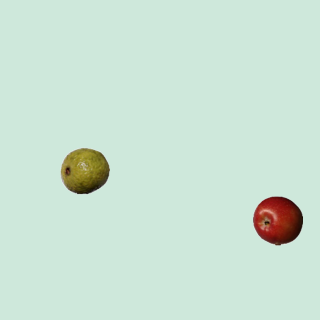Apple Braeburn: (252, 195, 302, 245)
Guava: (59, 145, 109, 195)
